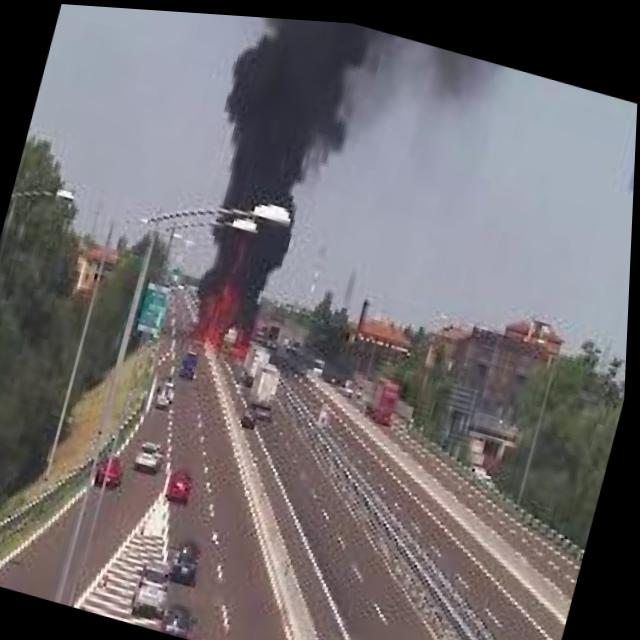fire: (187, 228, 279, 363)
